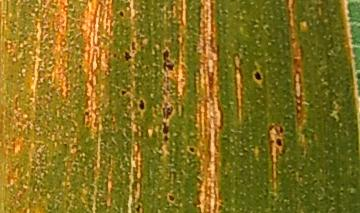tarspot: (159, 47, 177, 75), (158, 102, 175, 119), (250, 69, 266, 84), (121, 48, 134, 63), (135, 97, 147, 112), (158, 123, 172, 134), (165, 193, 177, 204), (81, 108, 93, 119), (132, 201, 143, 213), (186, 144, 197, 155), (275, 136, 283, 150), (117, 88, 129, 97), (161, 134, 171, 144), (116, 9, 127, 18), (277, 124, 285, 135)
